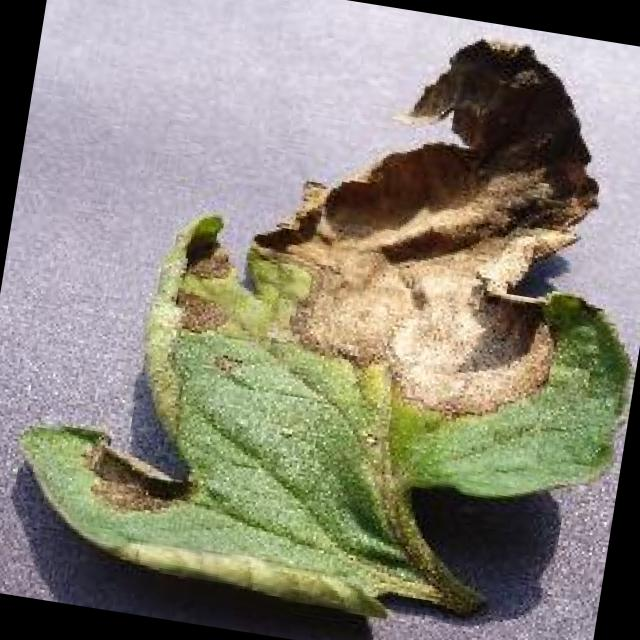Tomato_Late_Blight: (171, 0, 640, 431), (58, 408, 226, 544)
